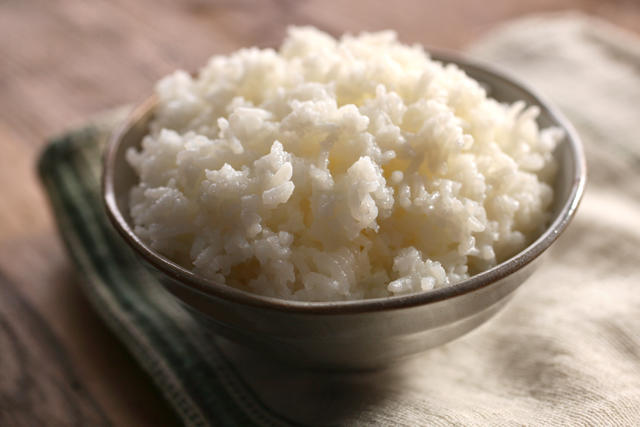rice: (128, 24, 597, 314)
